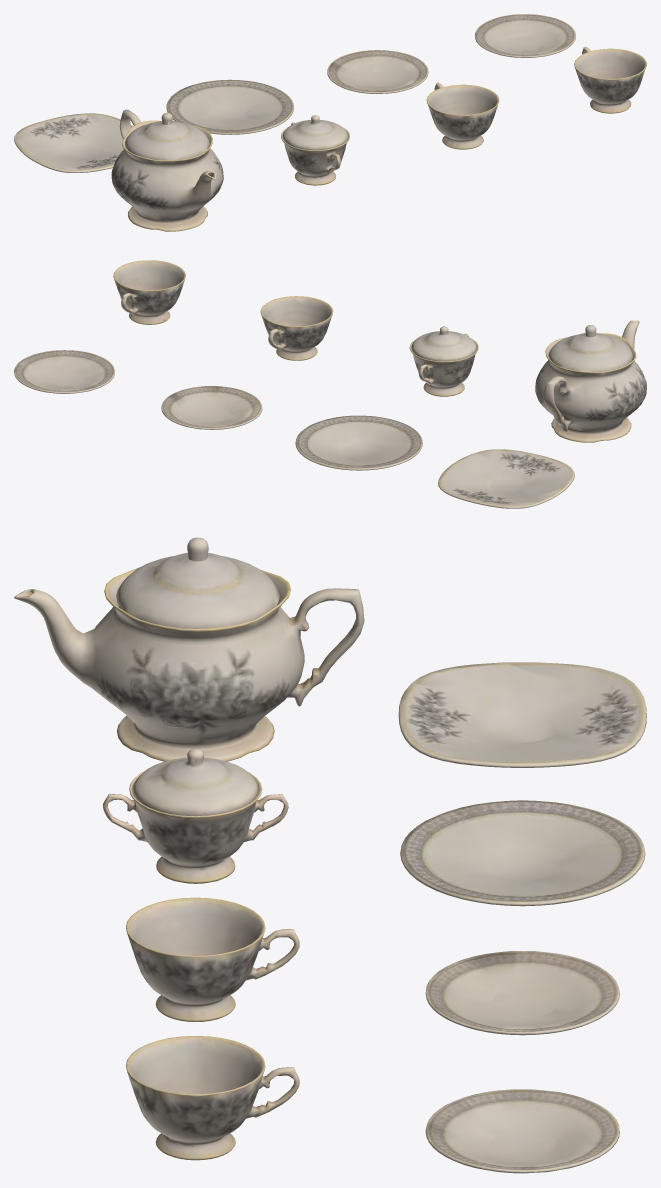
File: tea_set_01.glb
3 views of the same model, one above another, from view 1: azimuth 30°, elevation 25°; view 2: azimuth 150°, elevation 25°; view 3: azimuth 270°, elevation 25° (orthographic). The views are drawn at different scales.
Visible parts, largest first — view 1: tea_set_01_plate_large_square_01; view 2: tea_set_01_plate_large_square_01; view 3: tea_set_01_plate_large_square_01.
Part boxes in pixels (x1,y1,x2,y2): tea_set_01_plate_large_square_01: (14,14,646,231); tea_set_01_plate_large_square_01: (14,260,646,508); tea_set_01_plate_large_square_01: (14,537,646,1173).
Bounding box in the file's own units: 0.9183 × 0.165 × 0.4839.
Materials: 1 (1 with a texture image).
